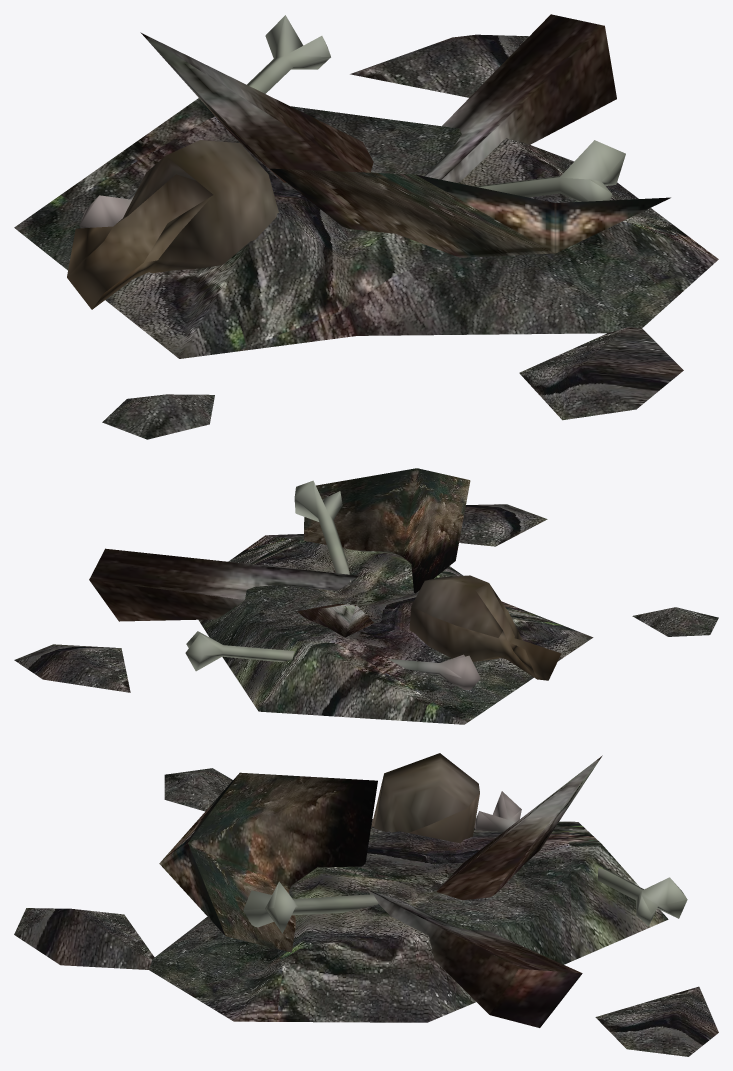
File: OC_GARBAGE_V1.glb
The picture shows the model from 3 angles, top to bottom: view 1: azimuth 30°, elevation 25°; view 2: azimuth 150°, elevation 25°; view 3: azimuth 270°, elevation 25°; orthographic projection. The views are drawn at different scales.
Parts seen in each view (by area): view 1: Mesh; view 2: Mesh; view 3: Mesh.
Part boxes in pixels (x1,y1,x2,y2): Mesh: [14, 14, 718, 439]; Mesh: [14, 468, 718, 724]; Mesh: [14, 753, 718, 1056].
Size of the model in its own units: 1.24 by 0.2795 by 1.28.
Materials: 2 (2 with a texture image).
